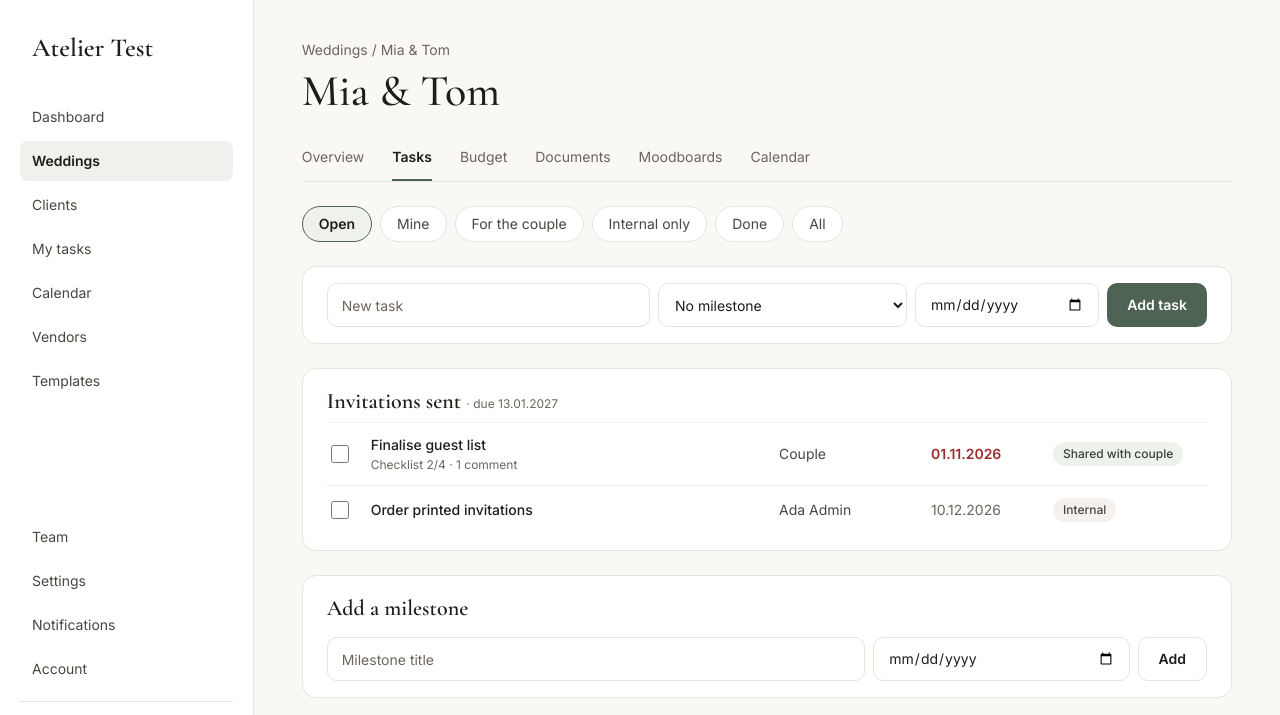
Test case: filters tasks for the couple
Click the button "For the couple" at (519, 224), box top-left (454, 206), bottom-right (584, 242)
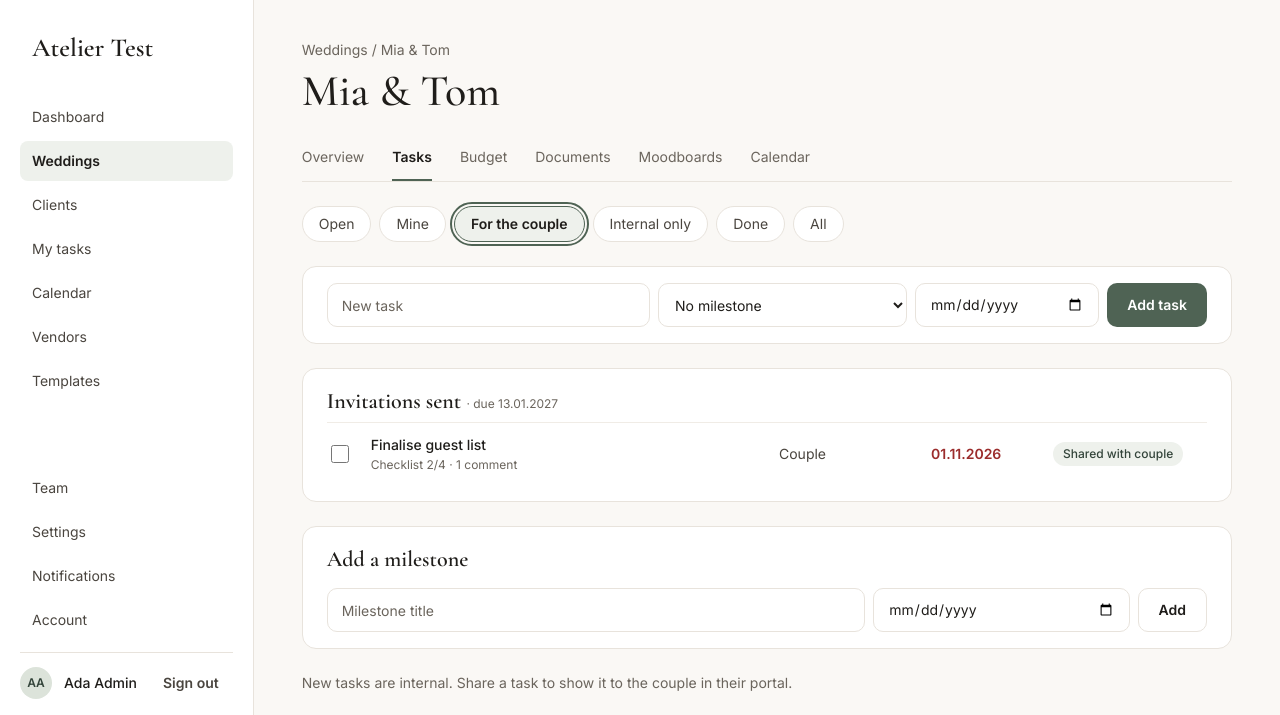
Check: the text "Finalise guest list" is shown, box top-left (371, 435), bottom-right (486, 455)
Check: the button "Order printed invitations" is gone
